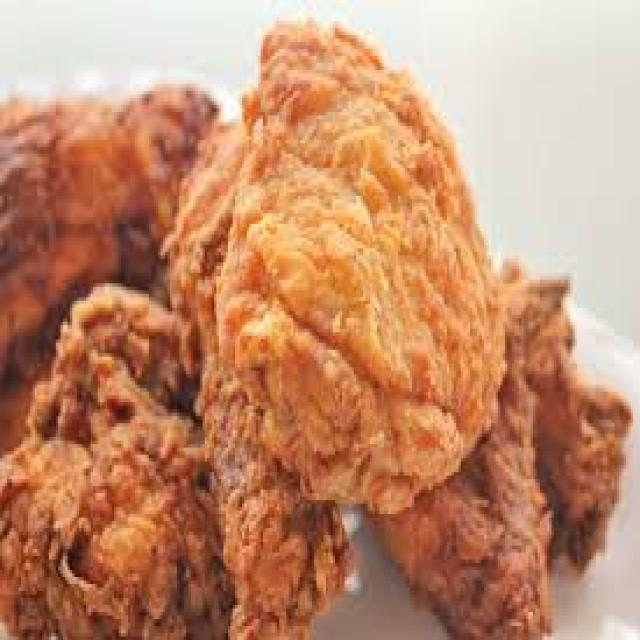Frango: (0, 21, 631, 640)
